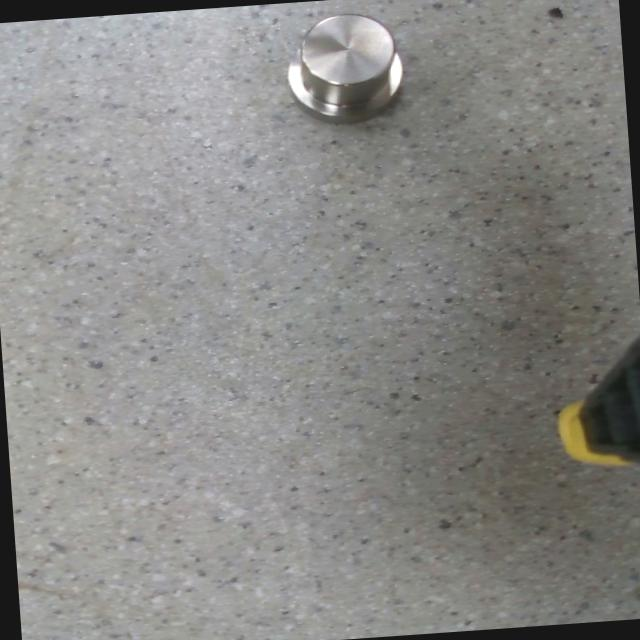sensor: (284, 10, 404, 127)
